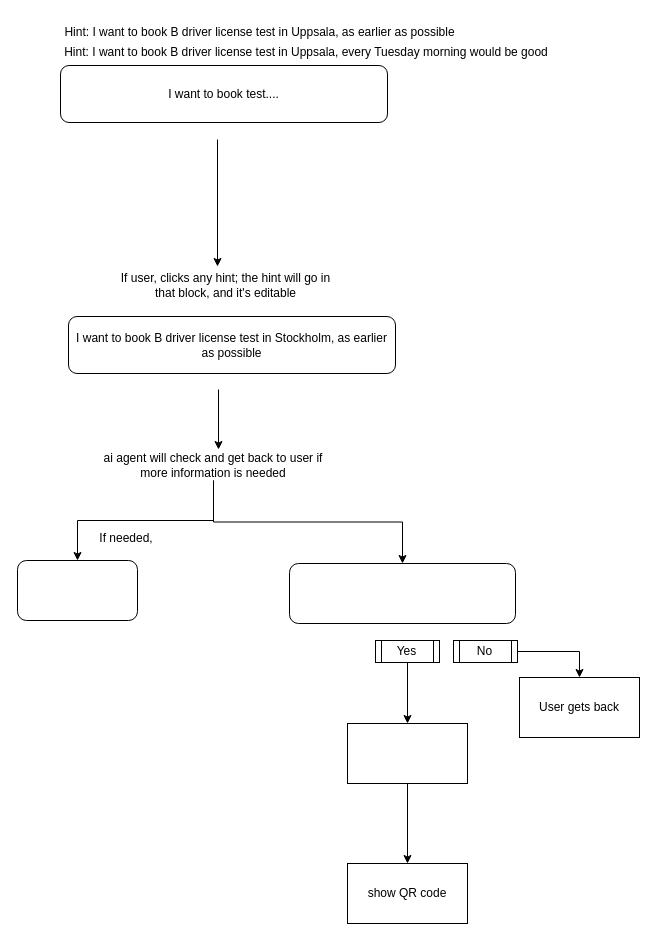
Image size: 657x941. Some labels were removed from this diagram. Each missing label, with the centre of its shape:
"Is my understanding correct, that you want to xxxx" belongs at (x=402, y=593).
"Please provide more information about XXX" belongs at (x=77, y=590).
"The system starts" belongs at (x=407, y=753).
